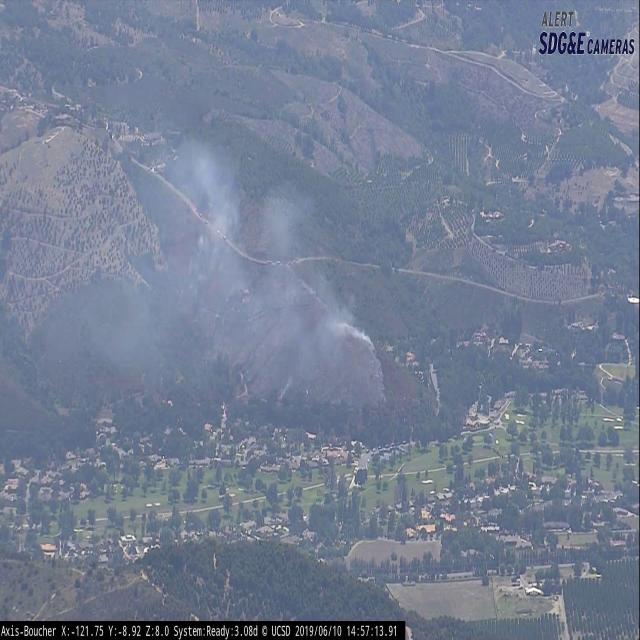smoke: (140, 107, 395, 419)
